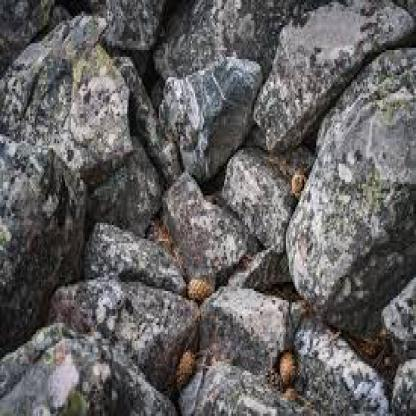Metamorphic_Quartize: (289, 38, 414, 304), (0, 11, 135, 166), (258, 5, 414, 136), (50, 266, 200, 380), (0, 150, 93, 326), (150, 168, 250, 293), (156, 55, 254, 166), (200, 270, 298, 378), (224, 139, 298, 277)
